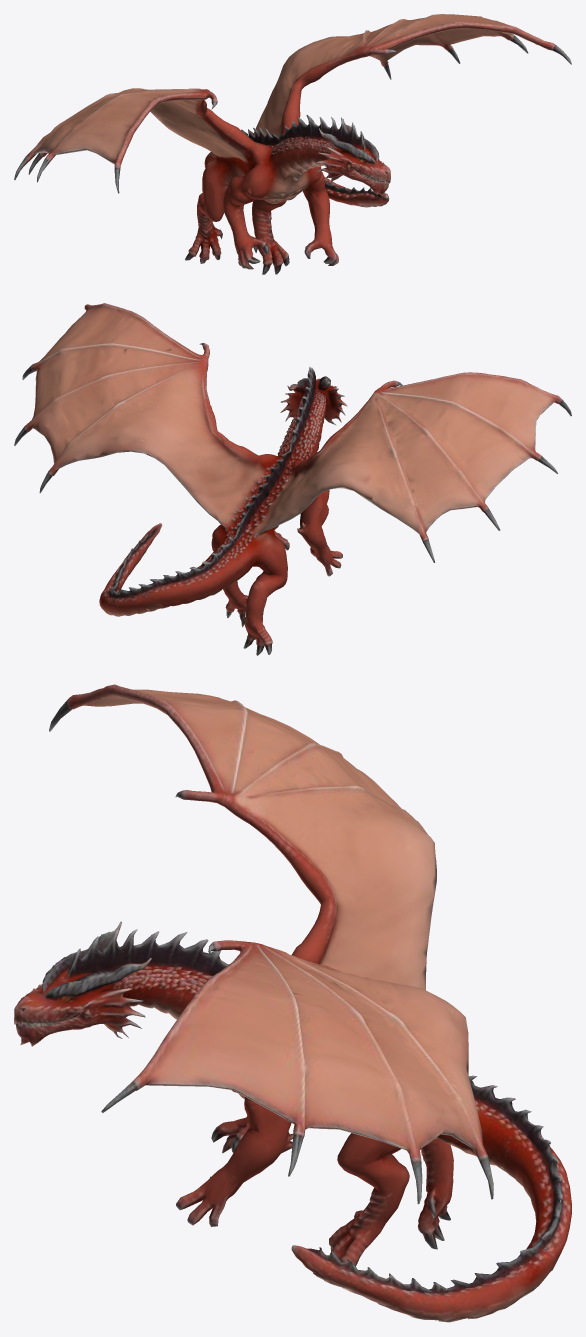
File: MZ4250 - Pseudodragon.glb
3 renders of one model, top to bottom at view 1: azimuth 30°, elevation 25°; view 2: azimuth 150°, elevation 25°; view 3: azimuth 270°, elevation 25°, orthographic. The views are drawn at different scales.
Visible parts, largest first — view 1: Square.002; view 2: Square.002; view 3: Square.002.
Part boxes in pixels (x1,y1,x2,y2): Square.002: (14,14,571,274); Square.002: (14,303,571,655); Square.002: (14,684,571,1322).
Size of the model in its own units: 1.48 by 0.7015 by 0.8198.
Materials: 1 (1 with a texture image).
